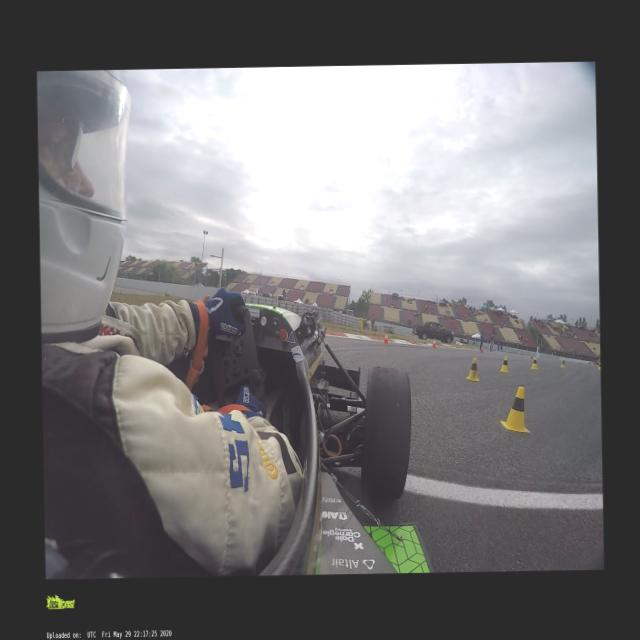orange_cone: (382, 332, 389, 344), (431, 338, 436, 348), (479, 345, 483, 353), (577, 360, 581, 364), (530, 352, 532, 359)
yellow_cone: (500, 386, 530, 432), (466, 357, 478, 381), (499, 356, 509, 373), (530, 357, 538, 370), (560, 358, 566, 368), (597, 363, 600, 370)
